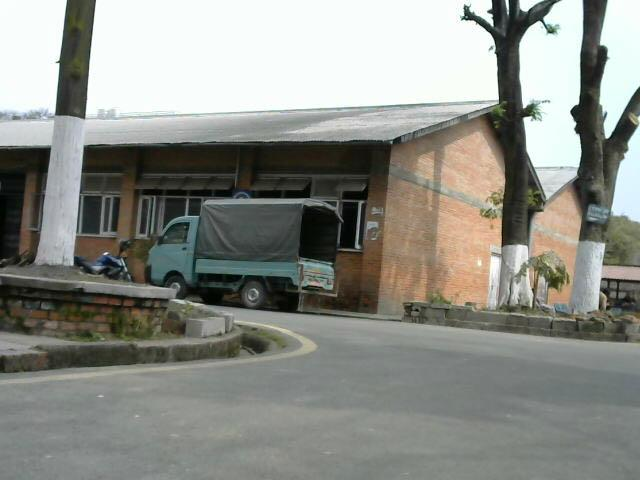Building: (86, 98, 497, 191)
Motorcycle: (154, 191, 346, 302), (76, 238, 149, 274)
Road: (36, 313, 640, 480)
Tree: (460, 3, 562, 309), (570, 1, 634, 309), (43, 0, 106, 302)
